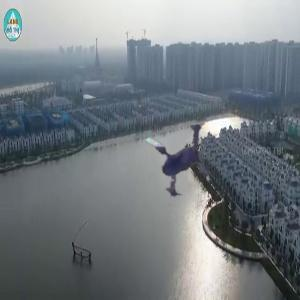drone: (110, 90, 231, 211)
